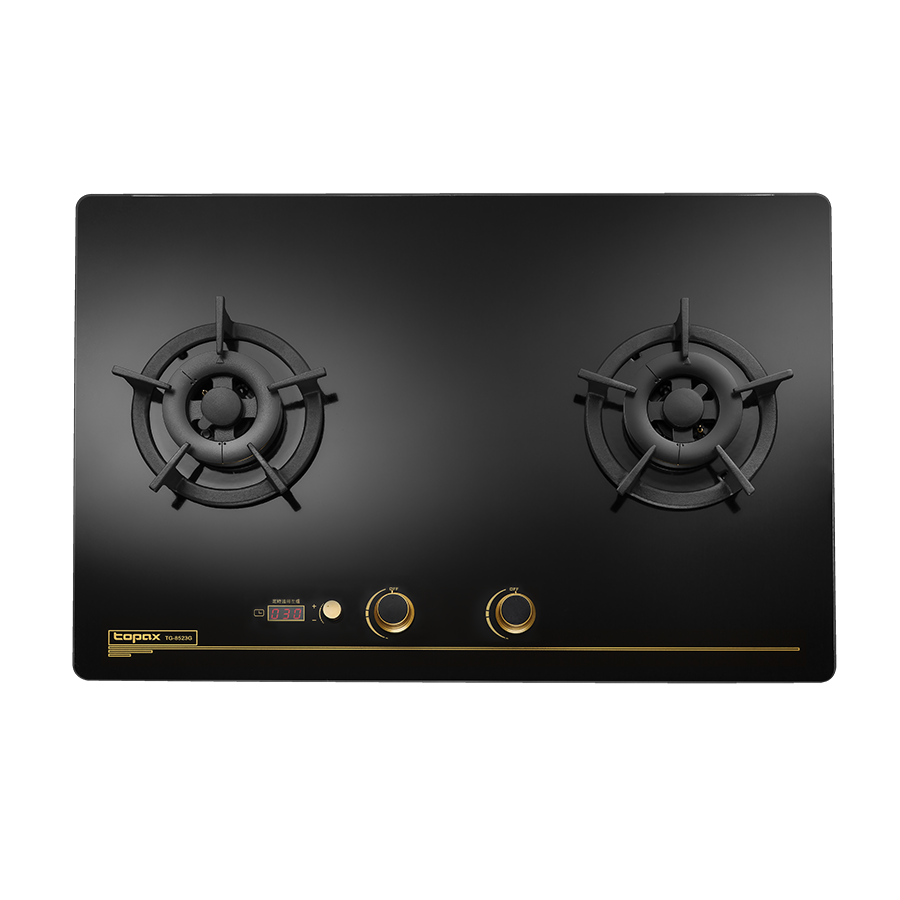gasoven: (70, 190, 842, 689)
